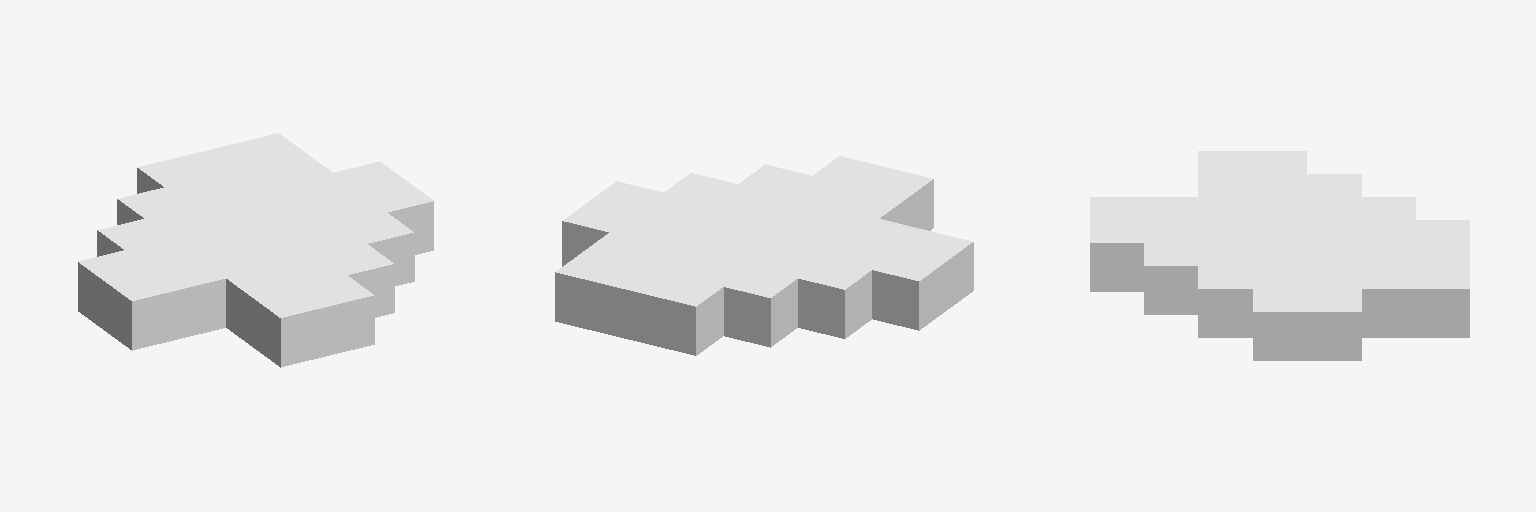
Rendered from Mini_Lightning.obj.
3 renders of one model, left to right at view 1: azimuth 30°, elevation 25°; view 2: azimuth 150°, elevation 25°; view 3: azimuth 270°, elevation 25°, orthographic.
Parts seen in each view (by area): view 1: object 1; view 2: object 1; view 3: object 1.
Part boxes in pixels (bbox=[...]): object 1: bbox=[78, 133, 433, 367]; object 1: bbox=[555, 156, 973, 355]; object 1: bbox=[1090, 151, 1469, 360].
Bounding box in the file's own units: 0.7 × 0.1 × 0.7.